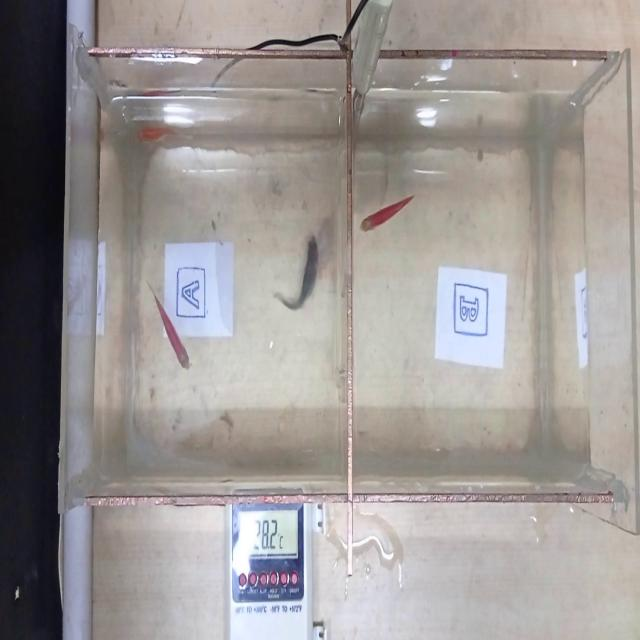Fish A1: (268, 218, 324, 327)
Fish A2: (132, 104, 188, 168)
Fish A3: (138, 270, 204, 388)
Fish B: (360, 190, 420, 244)
